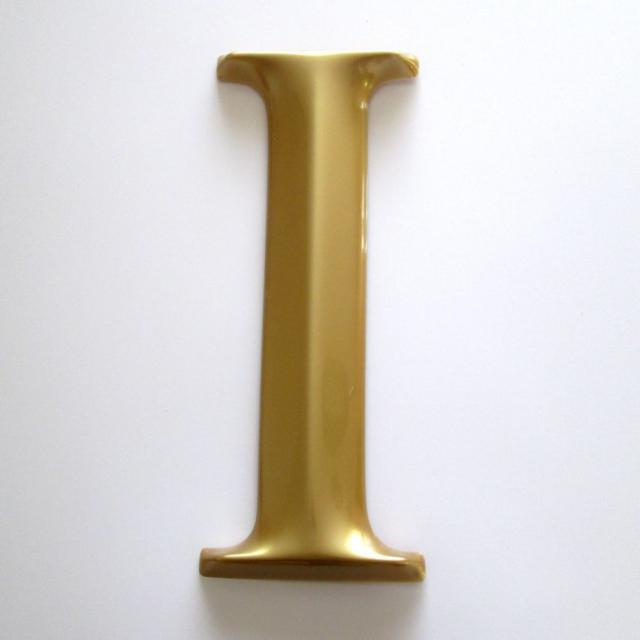I: (176, 16, 461, 622)
